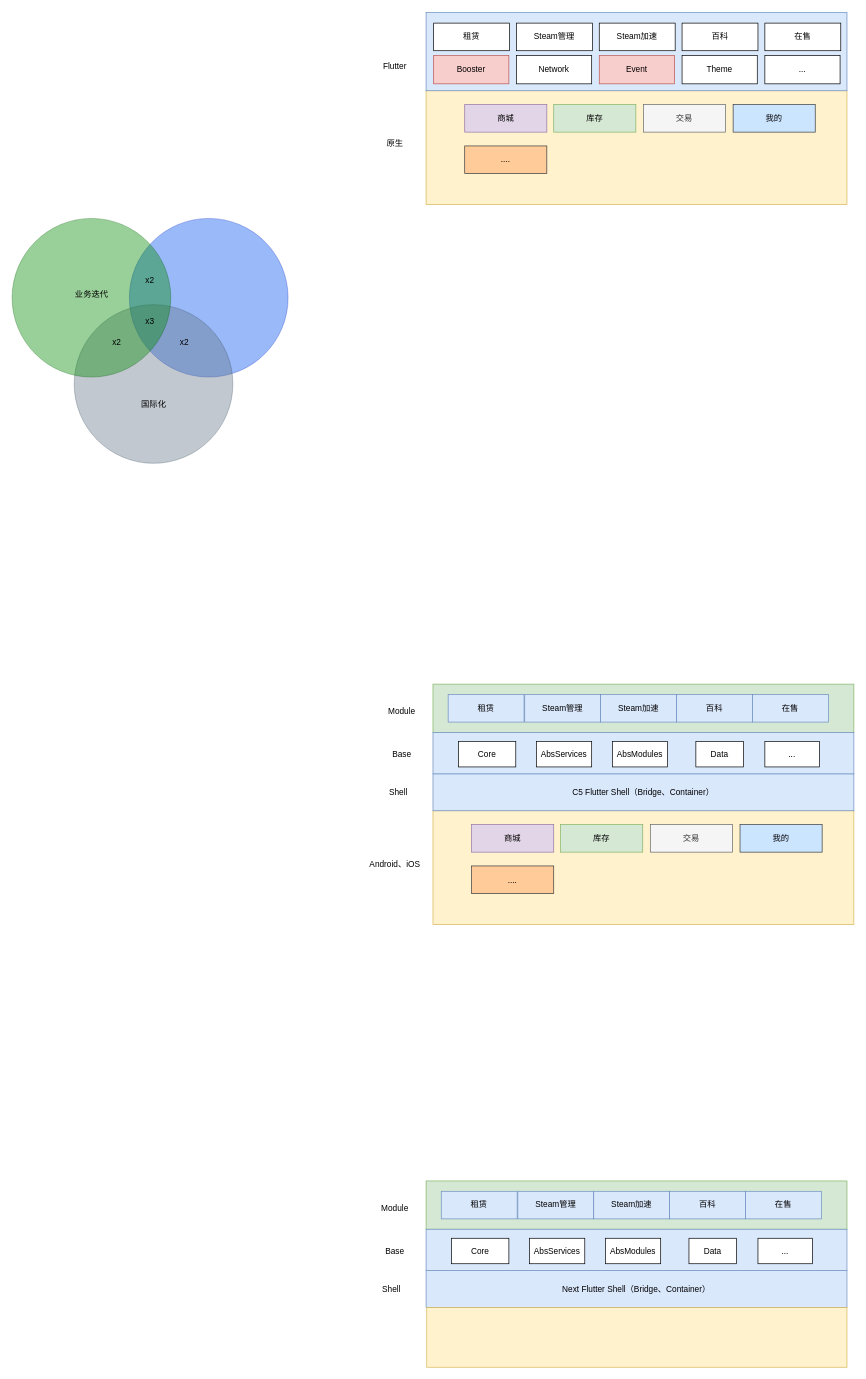
Image size: 866x1379. Some labels were removed from this diagram. Each missing label, with the box of its shape:
Flutter改造: (129, 218, 288, 377)
OHOS: (426, 1307, 847, 1367)
